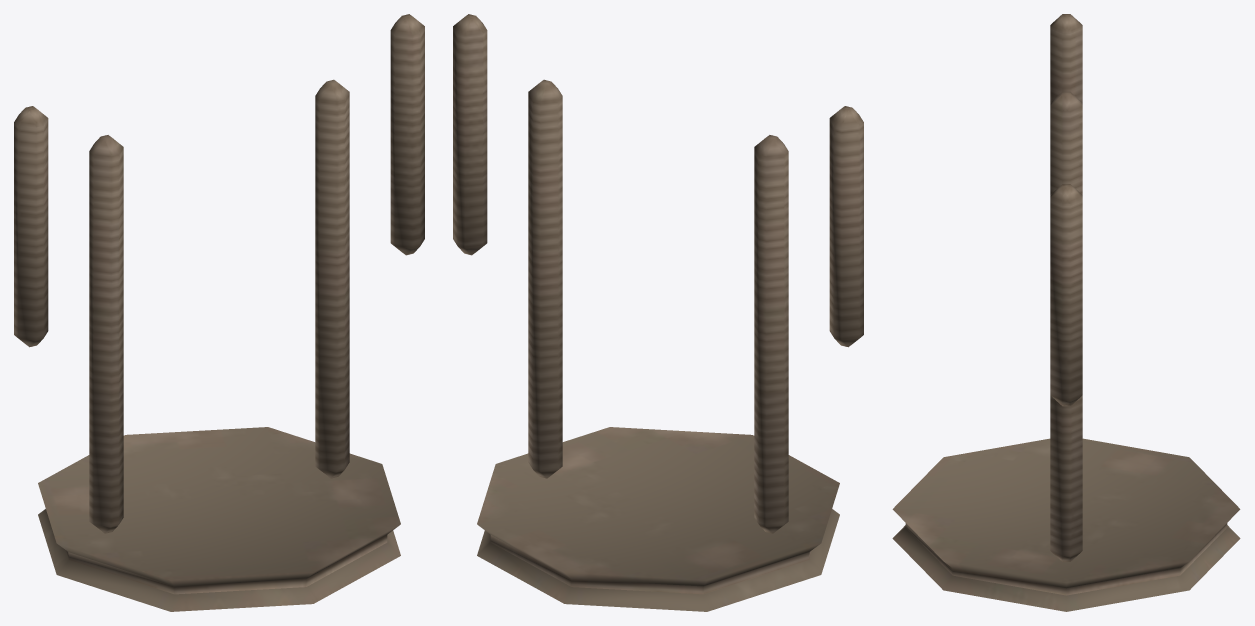
The model's file is mounted-antlers.glb.
3 renders of one model, left to right at view 1: azimuth 30°, elevation 25°; view 2: azimuth 150°, elevation 25°; view 3: azimuth 270°, elevation 25°, orthographic. The views are drawn at different scales.
Parts seen in each view (by area): view 1: mounted_antlers; view 2: mounted_antlers; view 3: mounted_antlers.
Boxes of the visible parts, x1=… form: mounted_antlers: x1=14, y1=14, x2=424, y2=611; mounted_antlers: x1=453, y1=14, x2=863, y2=611; mounted_antlers: x1=892, y1=14, x2=1240, y2=611.
Size of the model in its own units: 0.54 by 0.6 by 0.4325.
Materials: 1 (1 with a texture image).
